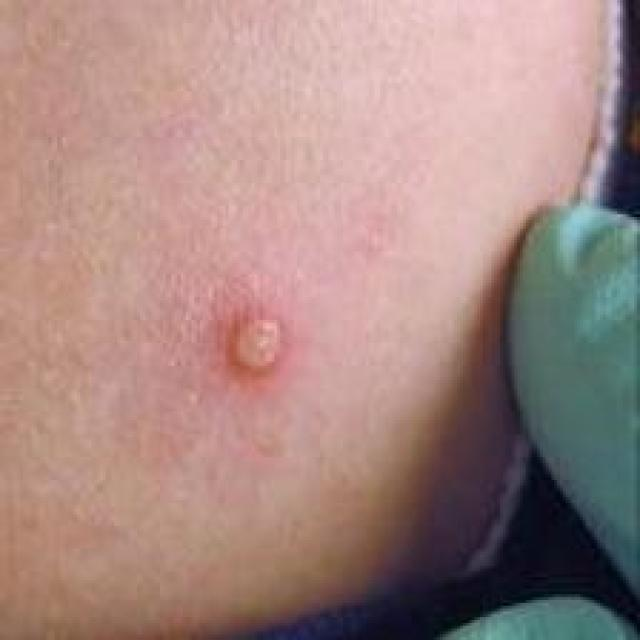monkeypox: (124, 208, 402, 516)
